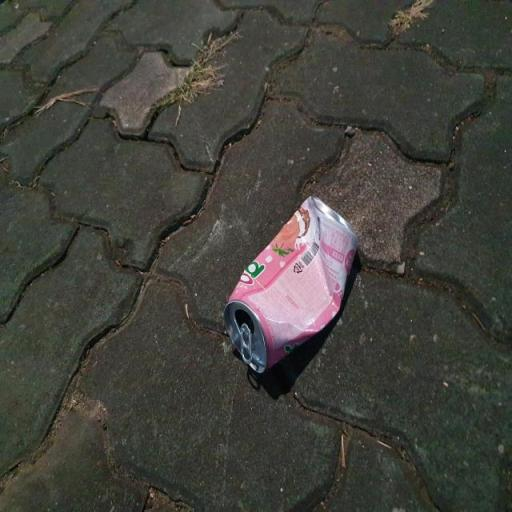metal: (210, 188, 363, 396)
